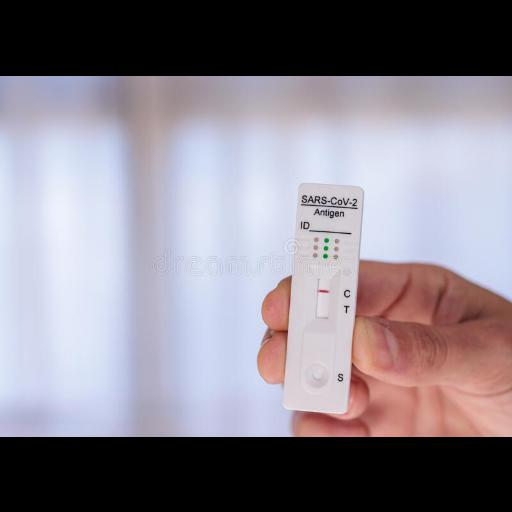Neg: (282, 182, 366, 416)
